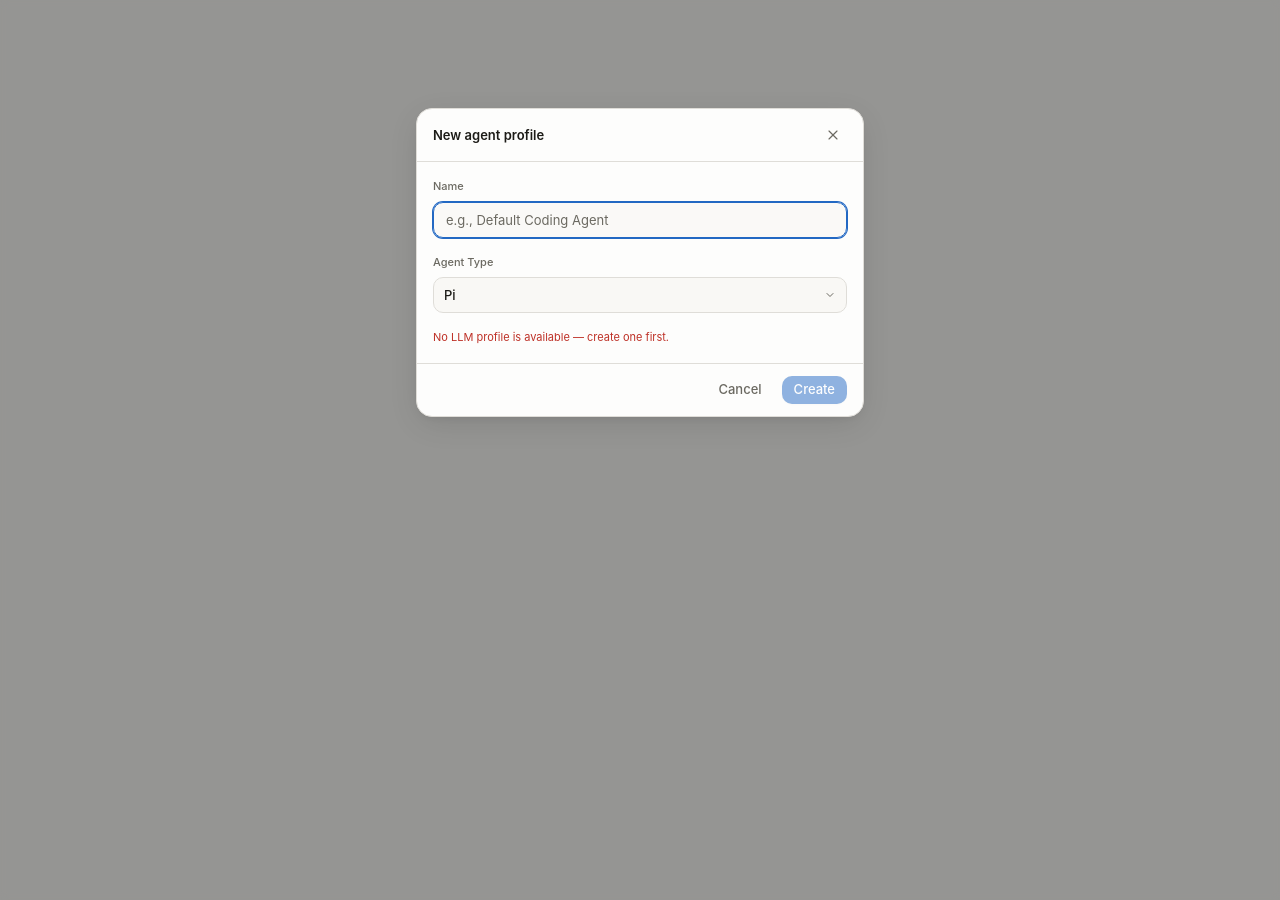
Scenario: NewAgentProfileModal › disables Create until a name is entered
Expected: the button "Create" is disabled, 782,376 -> 847,404
Type "Coding" into the field labelled "Name" at (640, 220), box 433,202 -> 847,238
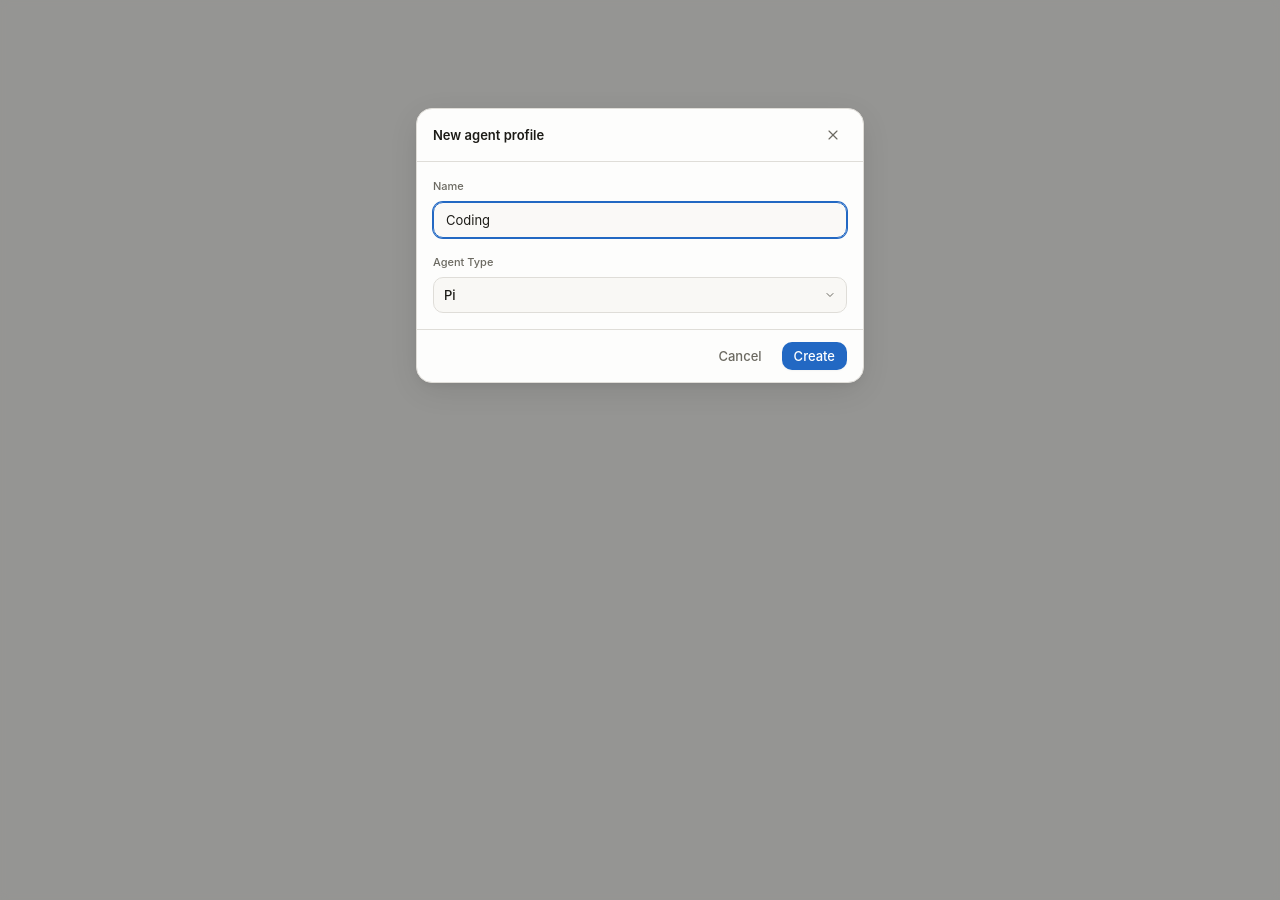
Now the button "Create" is enabled, box 782,342 -> 847,370
